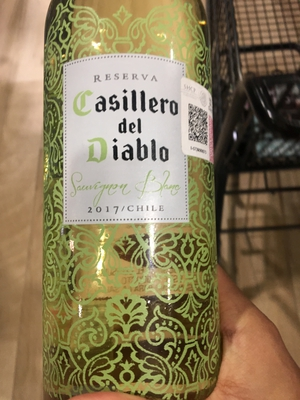casillero del diablo sauvignon blanc: (39, 9, 222, 398)
